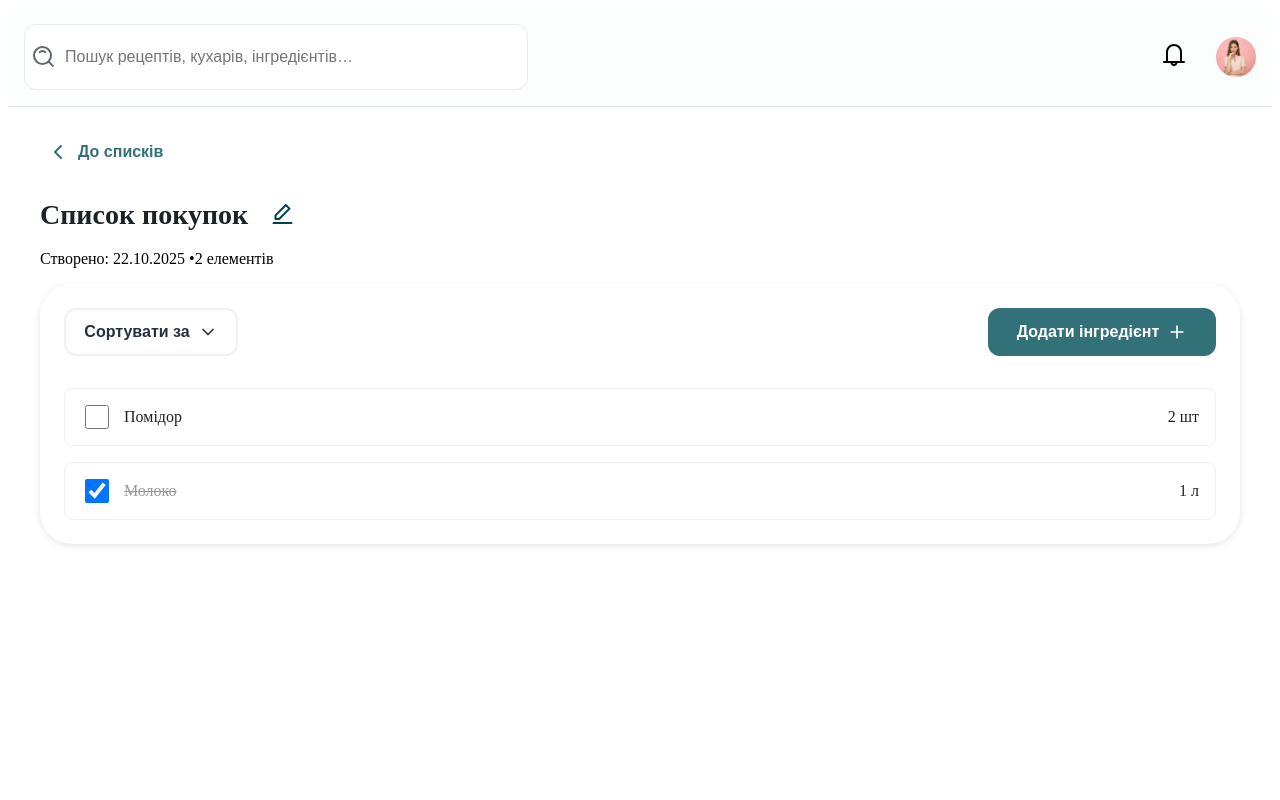
ShoppingListDetailPage › удаление всех продуктов через меню
The width and height of the screenshot is (1280, 800).
Click the button named "edit" next to "Список покупок" at (282,215), box [264, 200, 300, 230]
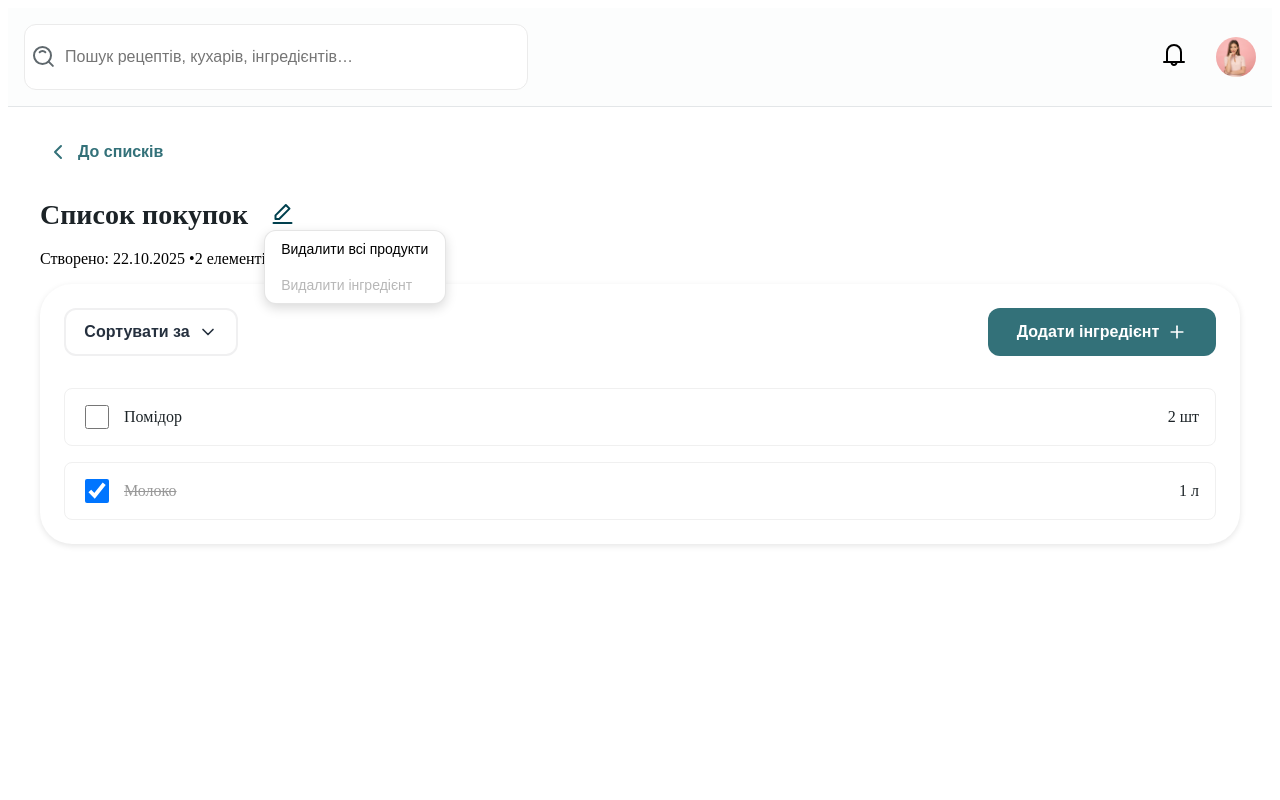
Click the button "Видалити всі продукти" at (355,248), box [265, 230, 445, 266]
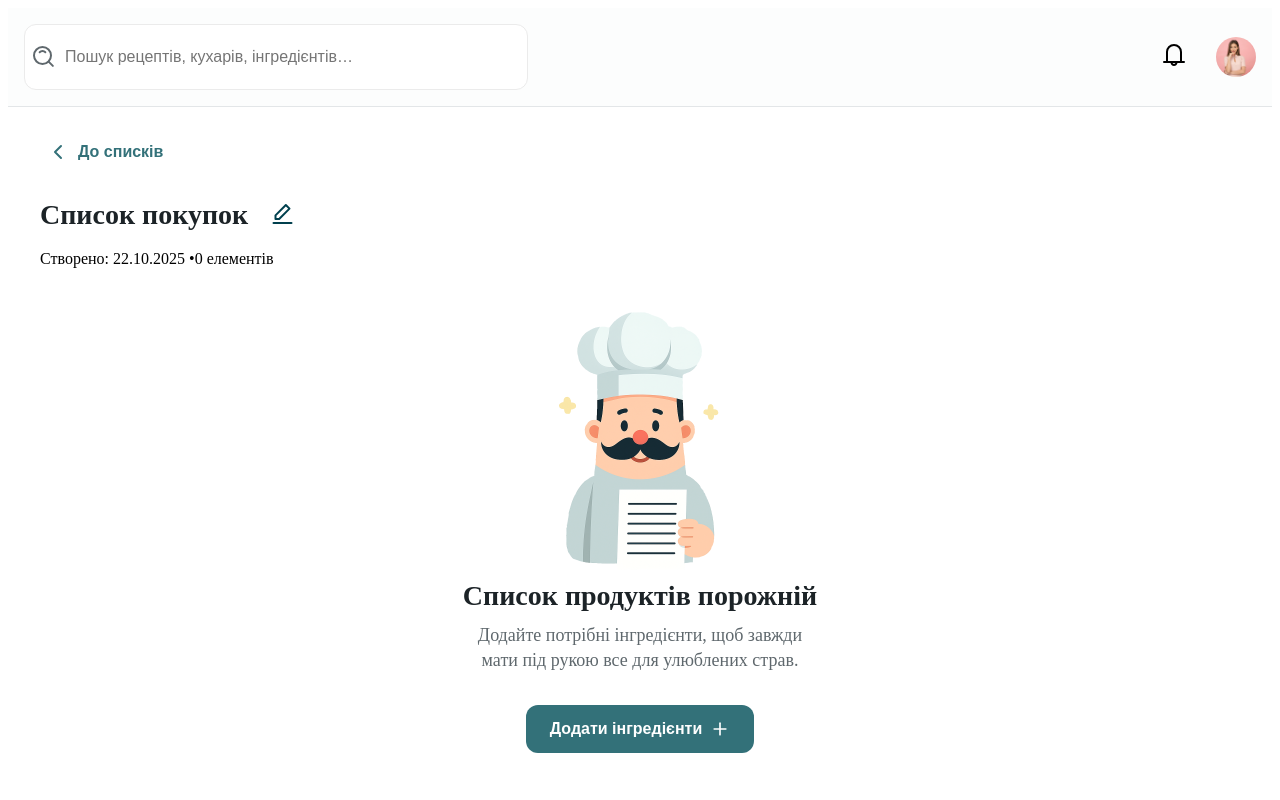
Now the heading "Список продуктів порожній" is shown, box [463, 577, 817, 615]
